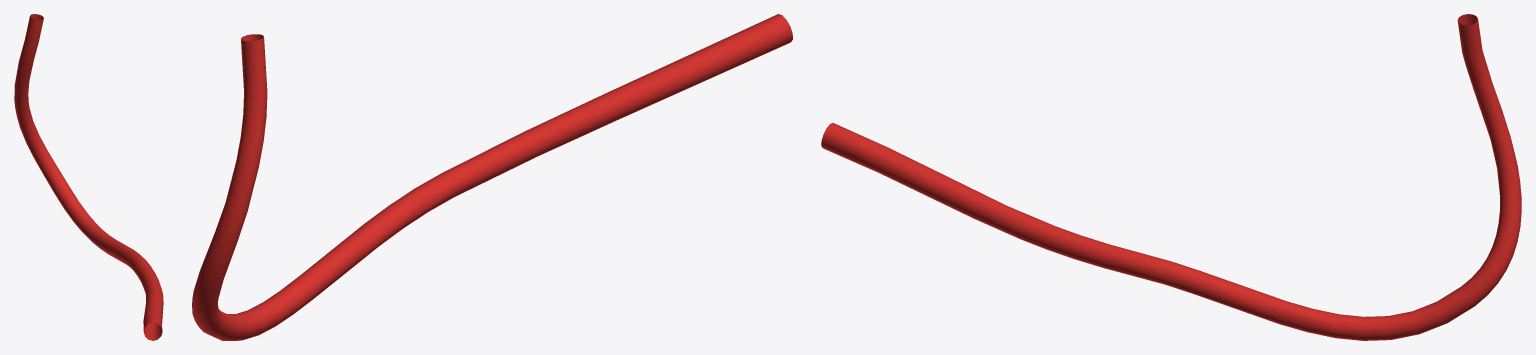
Rendered from circulatorio-circumflex-scapular-artery-l.glb.
3 renders of one model, left to right at view 1: azimuth 30°, elevation 25°; view 2: azimuth 150°, elevation 25°; view 3: azimuth 270°, elevation 25°, orthographic. The views are drawn at different scales.
Parts seen in each view (by area): view 1: Circumflex scapular artery.l; view 2: Circumflex scapular artery.l; view 3: Circumflex scapular artery.l.
Part boxes in pixels (x1,y1,x2,y2): Circumflex scapular artery.l: [14, 14, 163, 340]; Circumflex scapular artery.l: [192, 14, 792, 340]; Circumflex scapular artery.l: [821, 14, 1521, 340].
Bounding box in the file's own units: 0.014 × 0.0194 × 0.0406.
